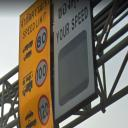speed_limit_100: (33, 58, 50, 88)
speed_limit_120: (35, 92, 52, 125)
speed_limit_80: (33, 24, 49, 55)
